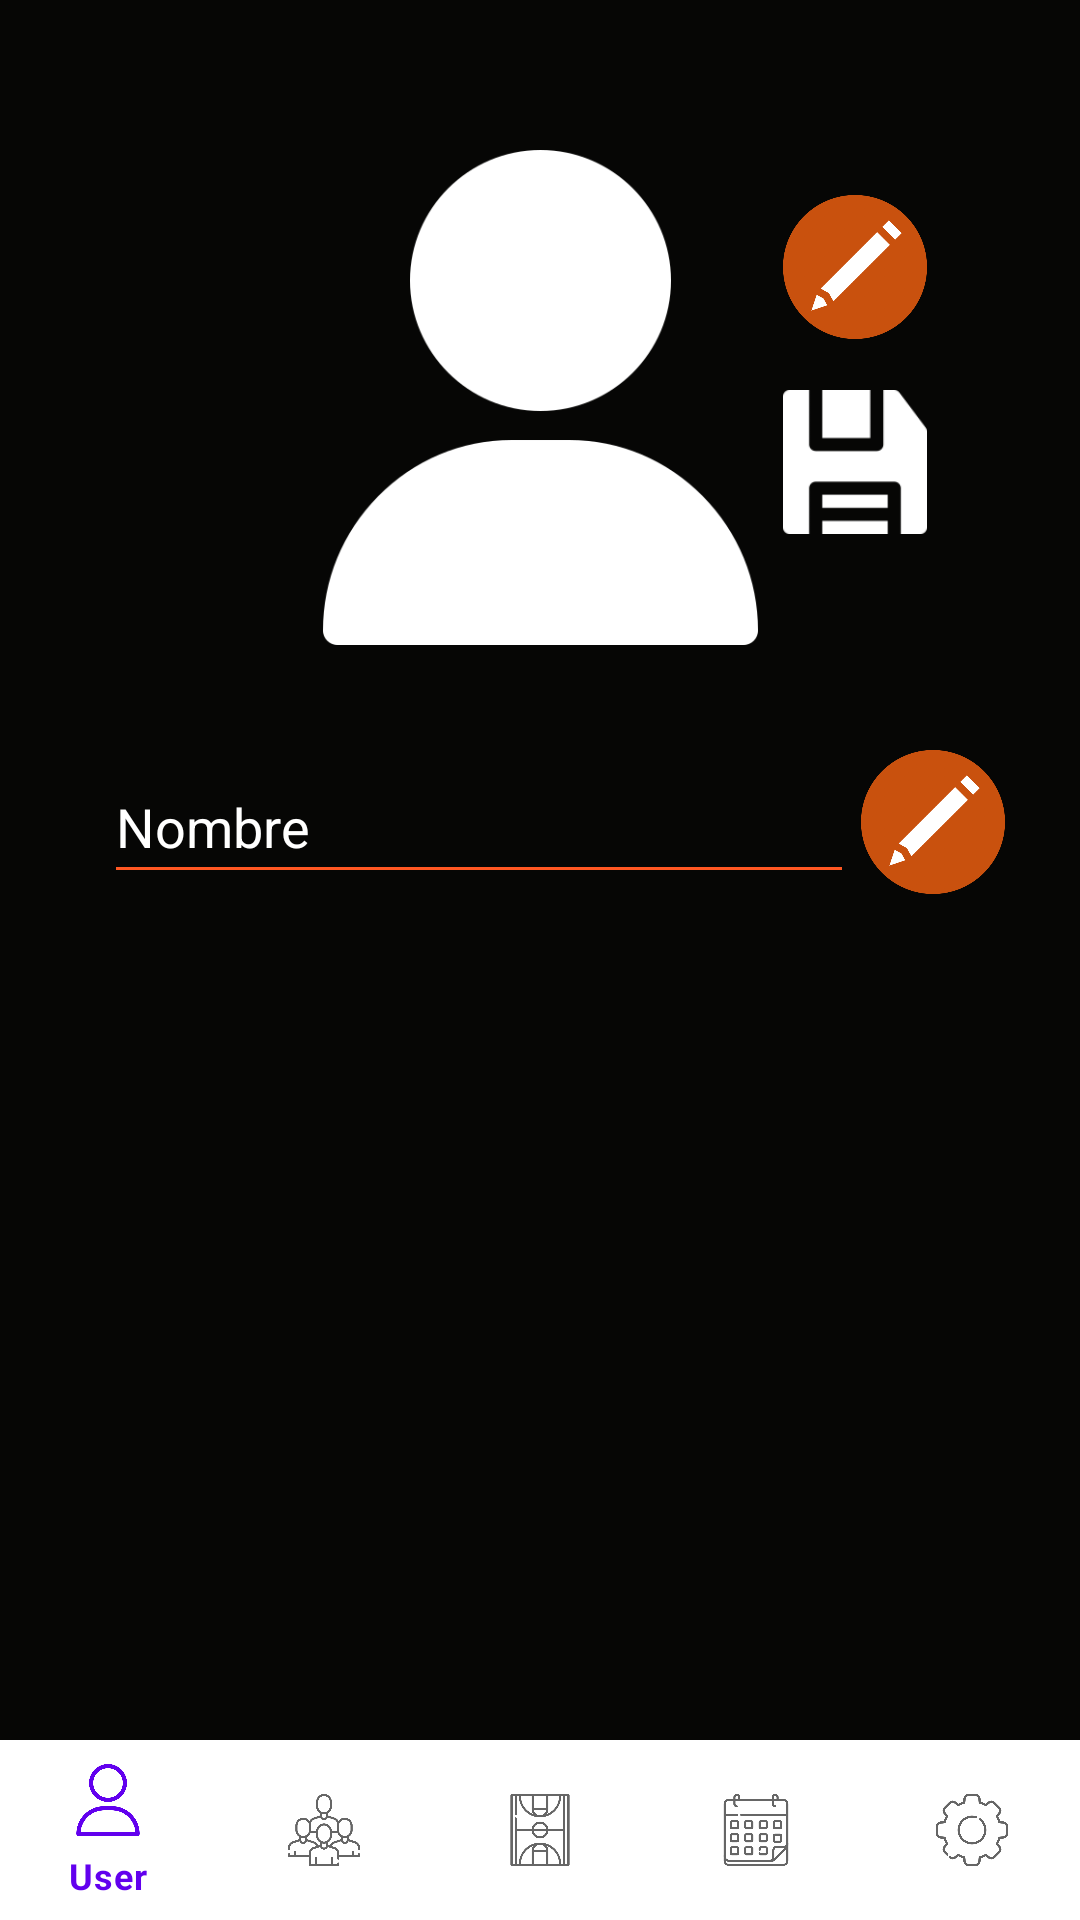

Named icons in this screenshot (1080×1920) and their bounding boxes, (x1, y1, x2, y2):
editar: (783, 195, 927, 339)
guardarfoto: (783, 390, 927, 534)
